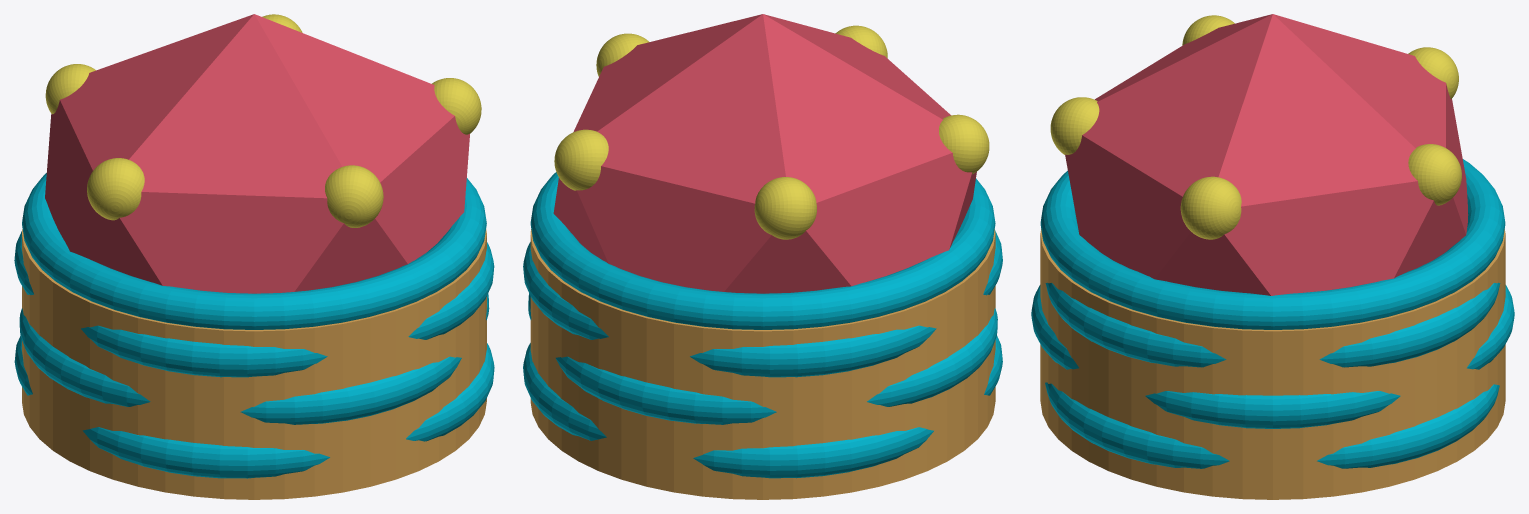
The model's file is crown.glb.
The picture shows the model from 3 angles, left to right: view 1: azimuth 30°, elevation 25°; view 2: azimuth 150°, elevation 25°; view 3: azimuth 270°, elevation 25°; orthographic projection.
Parts seen in each view (by area): view 1: Mesh_Mesh_head_geo.001_lambert2SG.001; view 2: Mesh_Mesh_head_geo.001_lambert2SG.001; view 3: Mesh_Mesh_head_geo.001_lambert2SG.001.
Boxes of the visible parts, <box> form: Mesh_Mesh_head_geo.001_lambert2SG.001: <box>14,14,494,499</box>; Mesh_Mesh_head_geo.001_lambert2SG.001: <box>523,14,1002,499</box>; Mesh_Mesh_head_geo.001_lambert2SG.001: <box>1031,14,1514,499</box>.
Bounding box in the file's own units: 0.05 × 0.0442 × 0.05.
